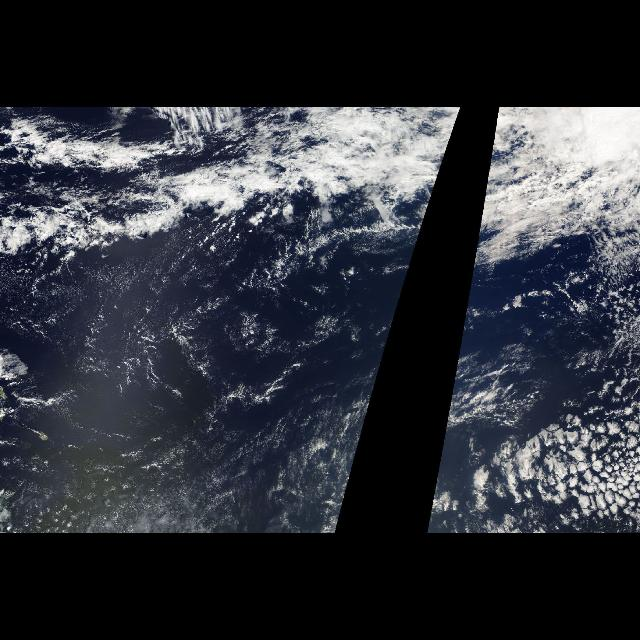Fish: (1, 107, 461, 250), (475, 107, 633, 250)
Flower: (490, 404, 640, 532)
Gravel: (120, 289, 402, 385), (451, 289, 615, 385)
Sugar: (6, 241, 412, 533), (427, 260, 497, 528)
